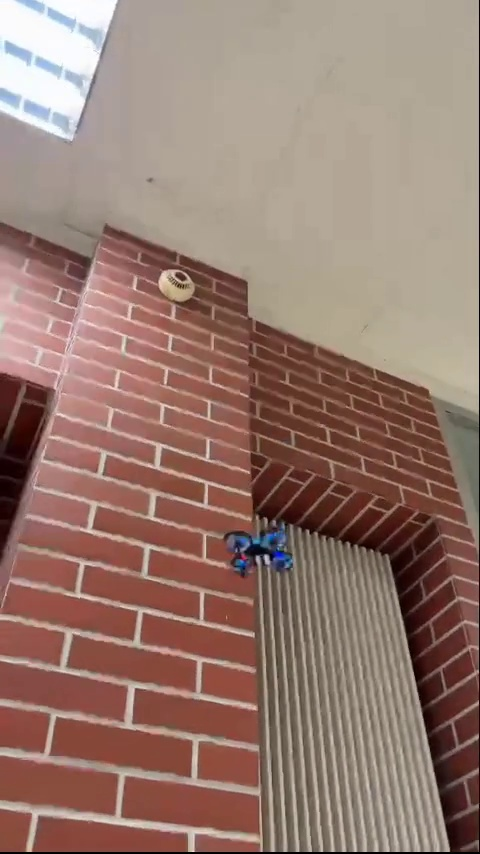drone: (226, 525, 294, 575)
